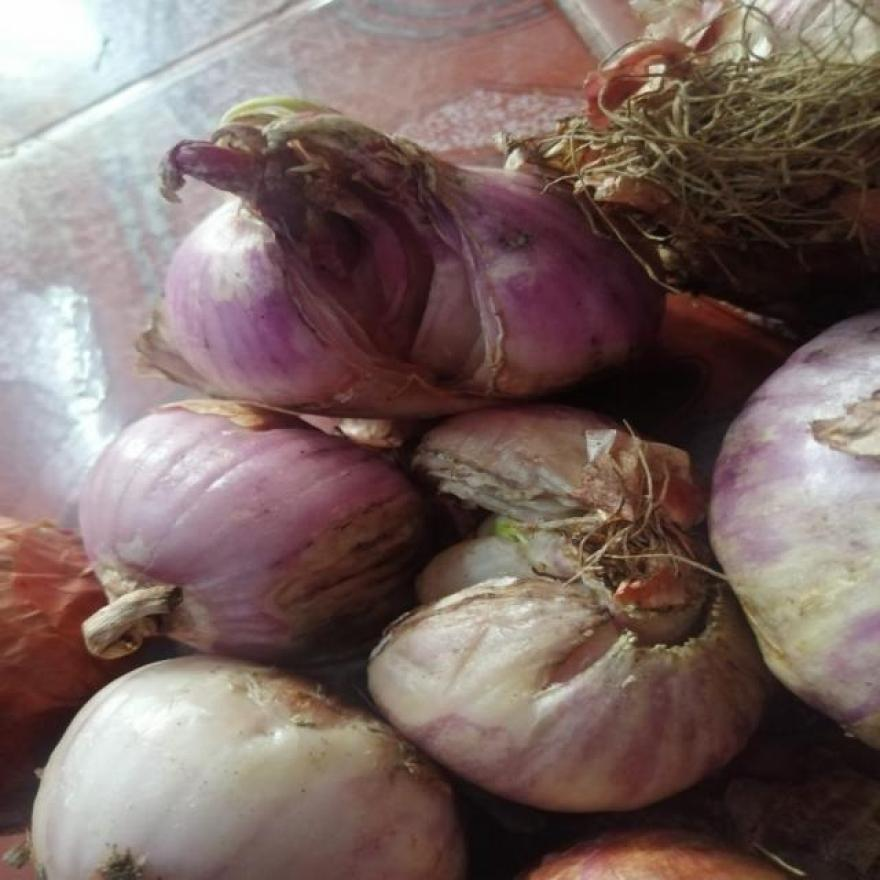Rotten: (280, 209, 470, 363), (451, 502, 639, 602), (239, 684, 408, 786)
Sprouted: (201, 111, 382, 167)
